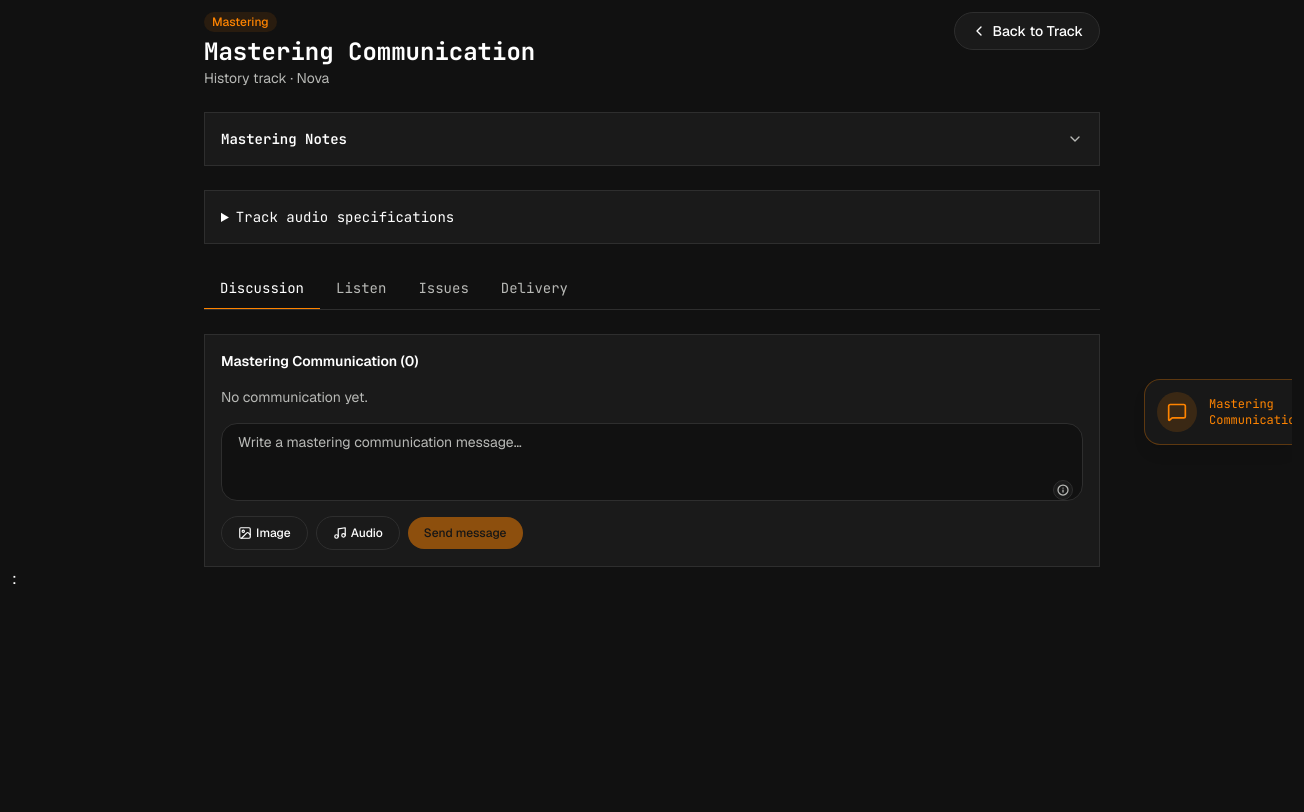
Mastering historical issue behavior › keeps ambiguous same-cycle legacy timed issues out of current markers and current-version membership
Click the button "Issues": (444, 289) x1=402 y1=268 x2=485 y2=310
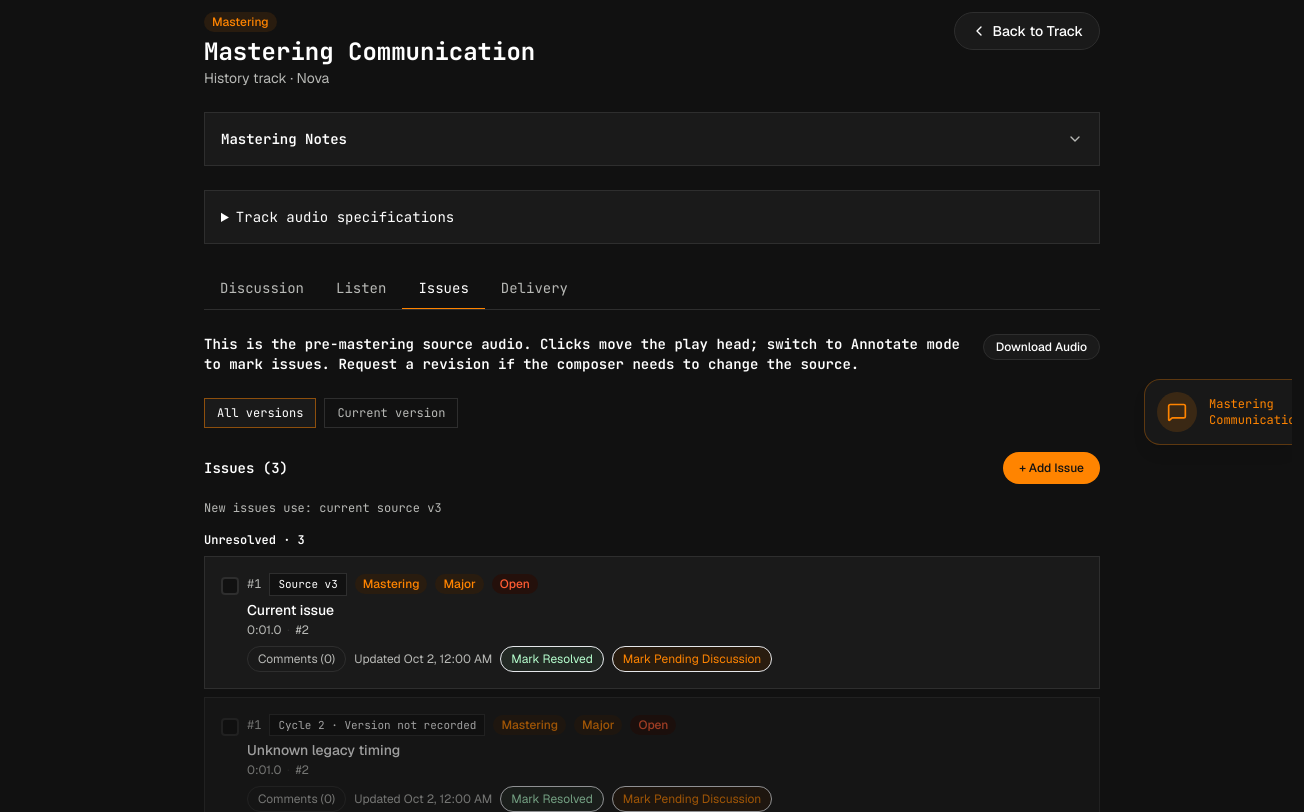
Expected: the text "Unknown legacy timing" is shown, x1=247 y1=741 x2=400 y2=759
Click the button "Current version": (391, 413) x1=324 y1=398 x2=458 y2=428
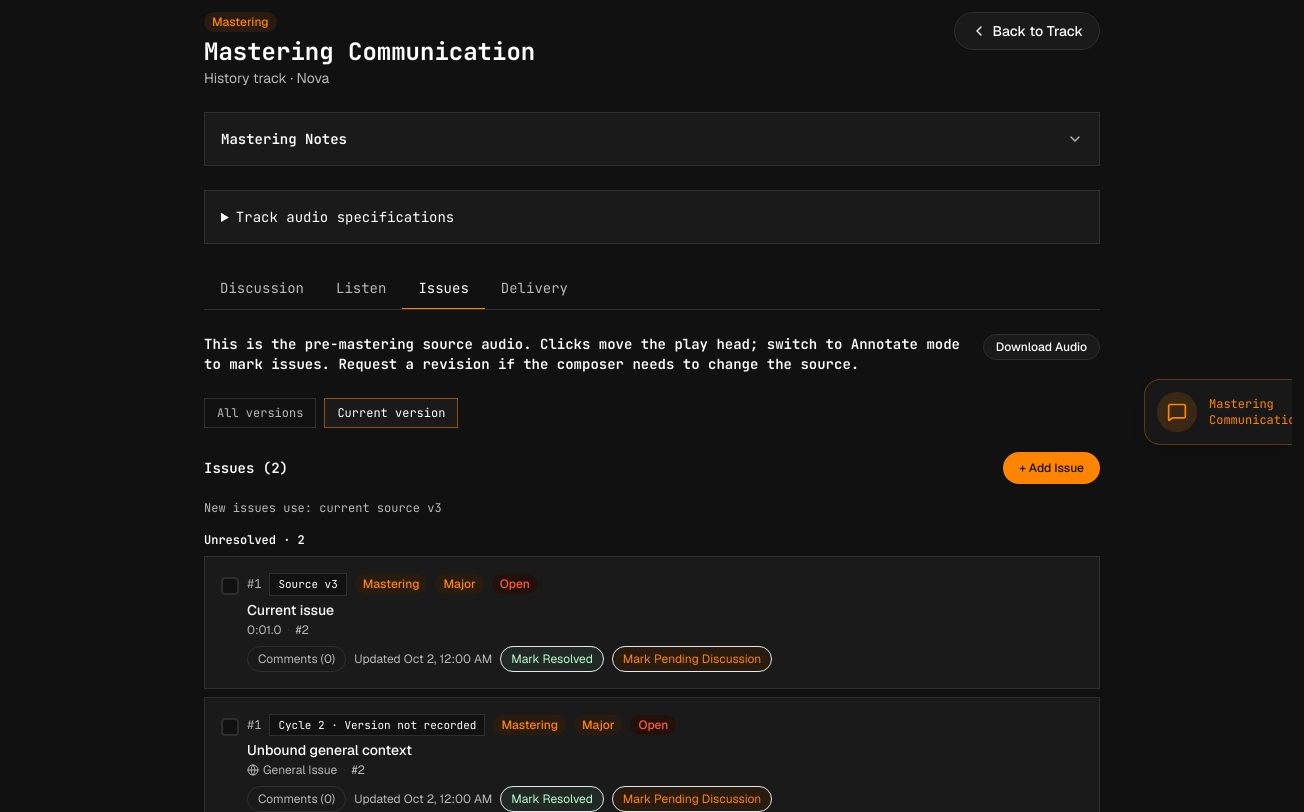
Expected: the text "Unbound general context" is shown, x1=247 y1=741 x2=412 y2=759
Expected: the text "Unknown legacy timing" is gone
